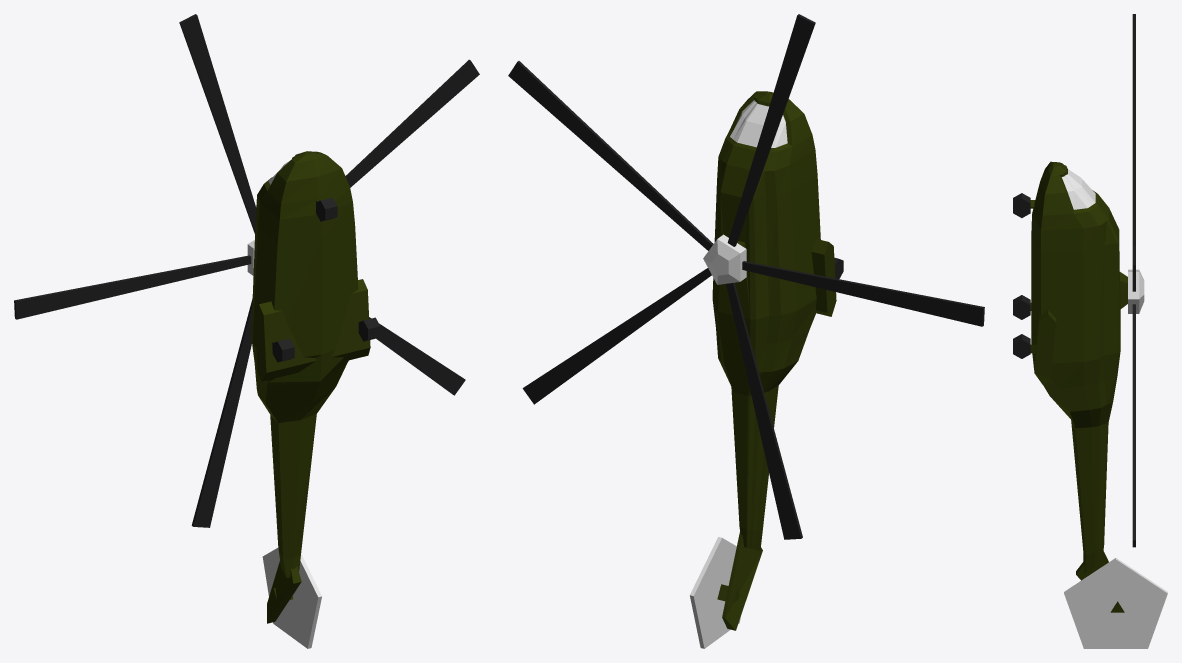
File: Helicopter.fbx
3 renders of one model, left to right at view 1: azimuth 30°, elevation 25°; view 2: azimuth 150°, elevation 25°; view 3: azimuth 270°, elevation 25°, orthographic. The views are drawn at different scales.
Parts seen in each view (by area): view 1: Helicopter-Body, Helicopter-MainRotor, Helicopter-TailRotor; view 2: Helicopter-Body, Helicopter-MainRotor, Helicopter-TailRotor, Helicopter-Window; view 3: Helicopter-Body, Helicopter-TailRotor, Helicopter-MainRotor, Helicopter-Window.
Part boxes in pixels (x1,y1,x2,y2): Helicopter-Body: [251, 151, 380, 623]; Helicopter-MainRotor: [14, 14, 479, 527]; Helicopter-TailRotor: [262, 548, 321, 648]; Helicopter-Body: [712, 91, 843, 630]; Helicopter-MainRotor: [508, 14, 984, 539]; Helicopter-TailRotor: [689, 537, 740, 648]; Helicopter-Window: [730, 100, 787, 147]; Helicopter-Body: [1013, 161, 1127, 612]; Helicopter-TailRotor: [1064, 558, 1167, 648]; Helicopter-MainRotor: [1128, 14, 1144, 547]; Helicopter-Window: [1062, 169, 1095, 209].
Size of the model in its own units: 5571 by 7282 by 1727.
